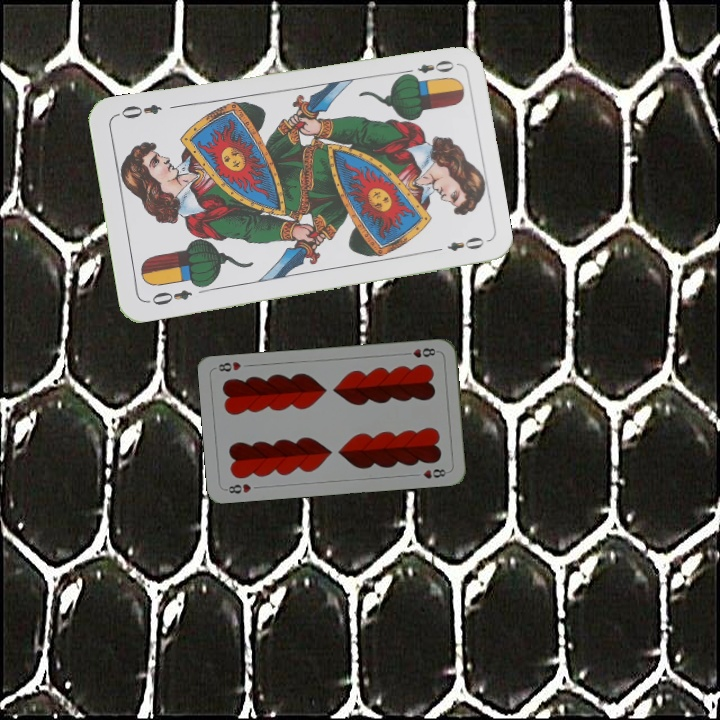EO: (399, 56, 457, 80), (143, 286, 195, 308)
H8: (400, 344, 441, 360), (221, 479, 254, 496)
